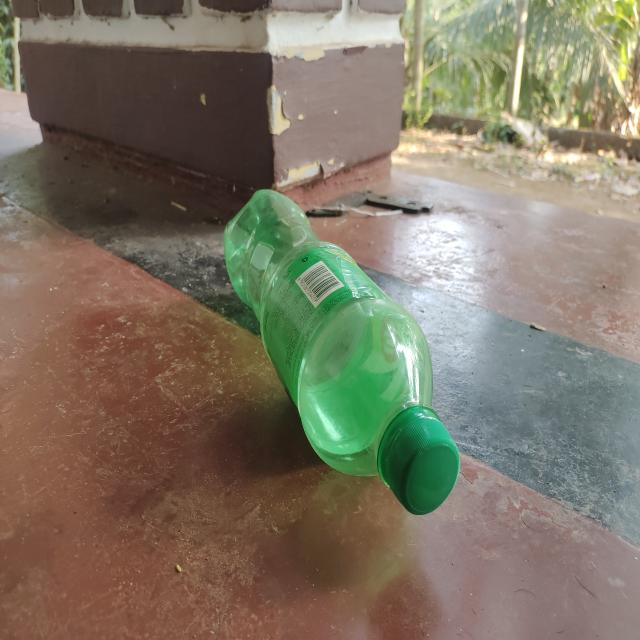plastic: (220, 183, 459, 518)
